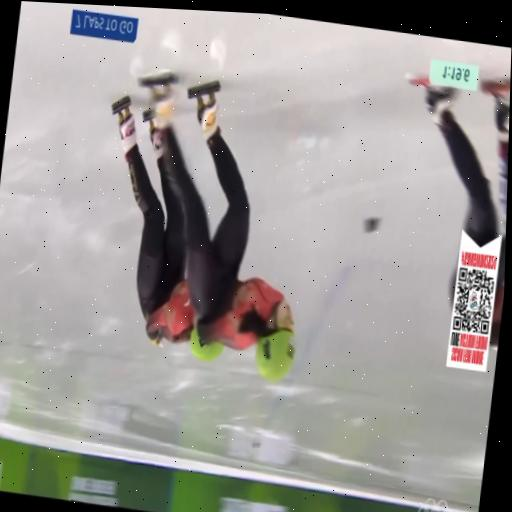Skater: (140, 75, 295, 380), (113, 96, 223, 360), (405, 86, 510, 238)
